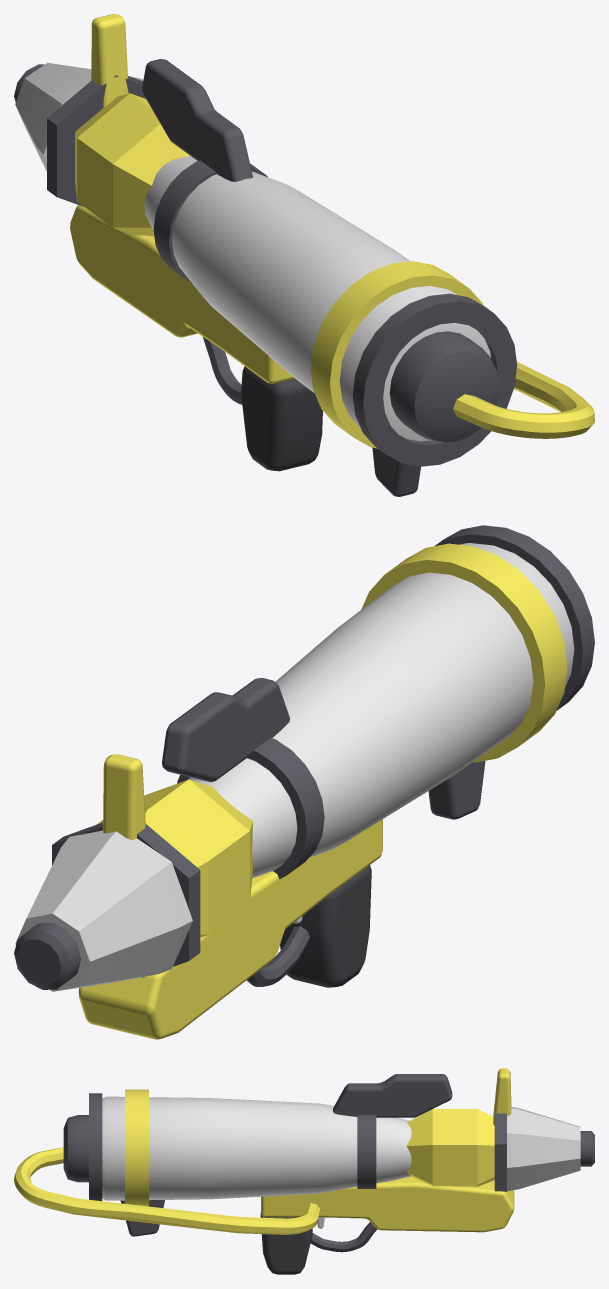
The model's file is W_Inkshot.fbx.
3 views of the same model, one above another, from view 1: azimuth 30°, elevation 25°; view 2: azimuth 150°, elevation 25°; view 3: azimuth 270°, elevation 25° (orthographic). The views are drawn at different scales.
Visible parts, largest first — view 1: Inkshot_Body; view 2: Inkshot_Body; view 3: Inkshot_Body.
Boxes of the visible parts, box(x1,y1,x2,y2) form: Inkshot_Body: box(14, 14, 594, 496); Inkshot_Body: box(14, 525, 594, 1039); Inkshot_Body: box(14, 1068, 594, 1274).
Bounding box in the file's own units: 36.44 × 53.01 × 140.
